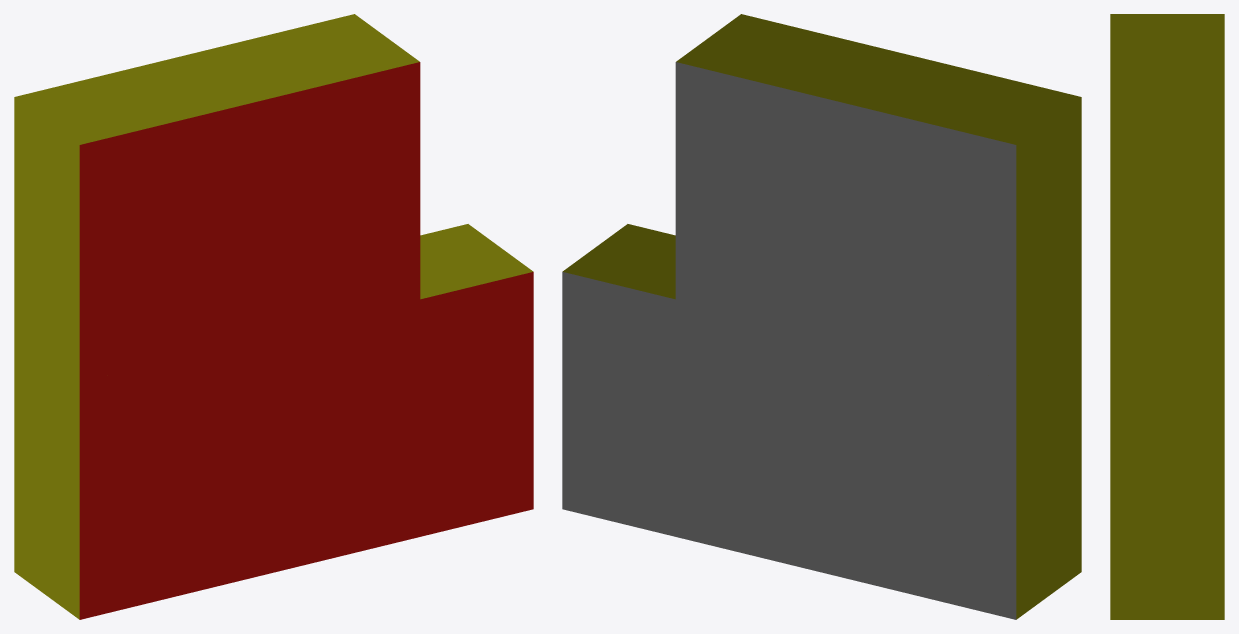
File: idf.obj
3 renders of one model, left to right at view 1: azimuth 30°, elevation 25°; view 2: azimuth 150°, elevation 25°; view 3: azimuth 270°, elevation 25°, orthographic. The views are drawn at different scales.
Size of the model in its own units: 12.19 by 12.19 by 3.05.
